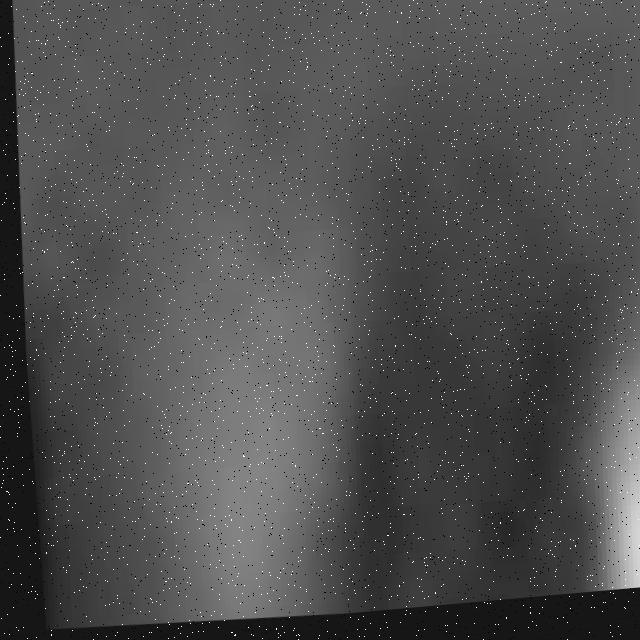person: (120, 107, 352, 633), (554, 243, 640, 604)
